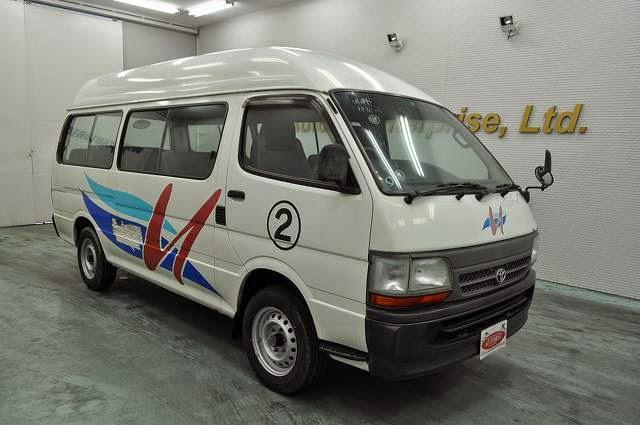van: (54, 48, 560, 382)
